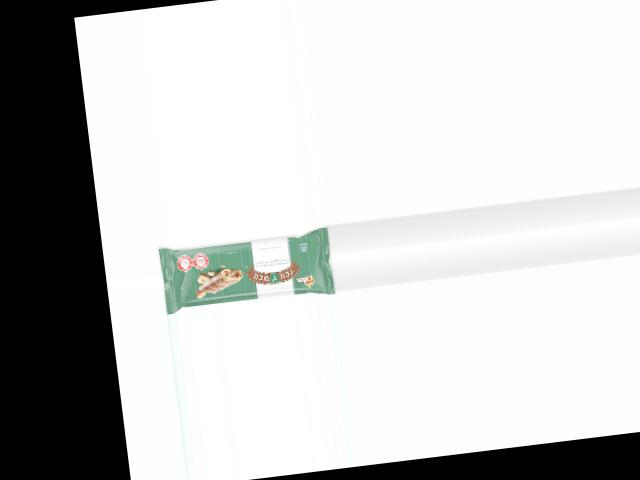chocolate: (156, 223, 338, 314)
